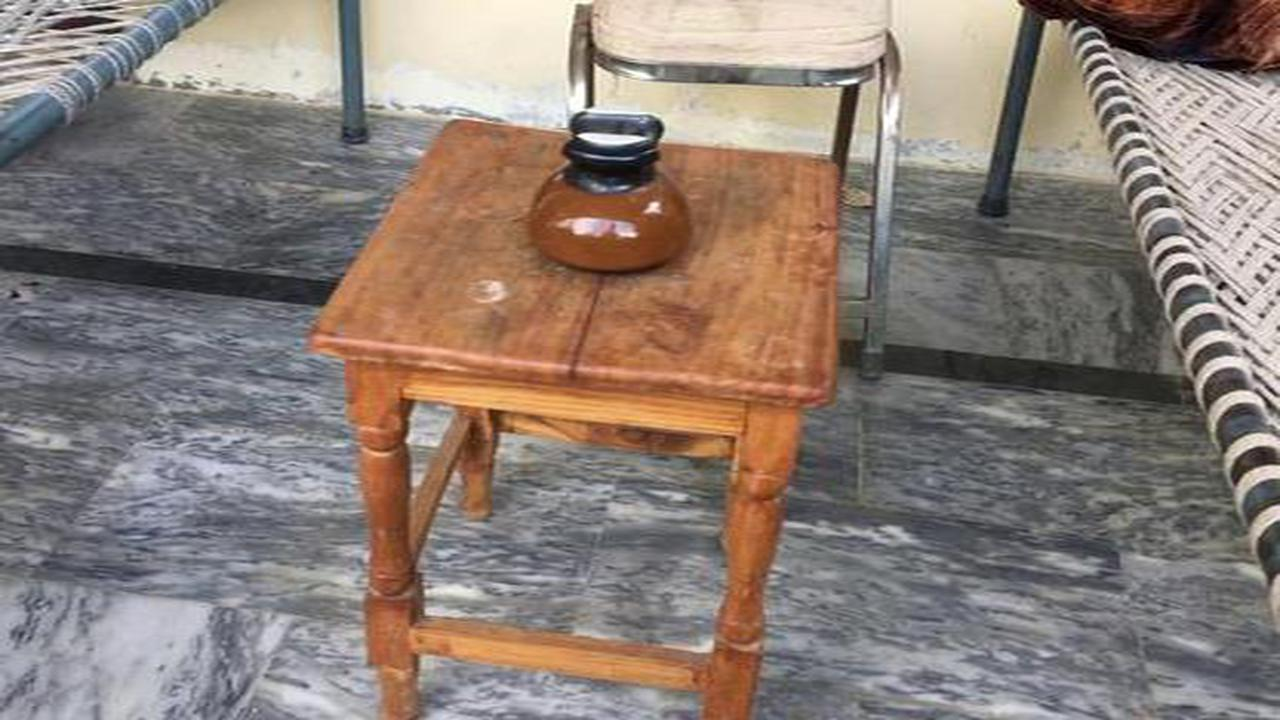insulator_pin: (514, 103, 714, 286)
